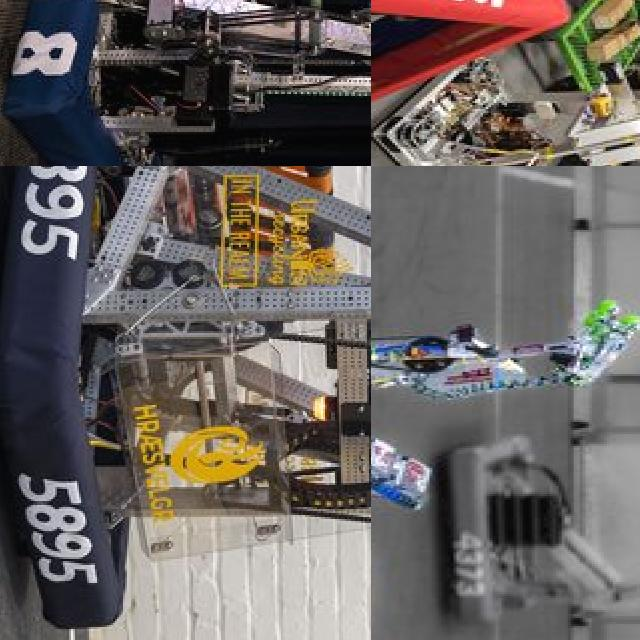FRC-Robots: (0, 166, 371, 640), (371, 244, 640, 584), (0, 0, 371, 166), (371, 0, 640, 166), (439, 421, 640, 640)
